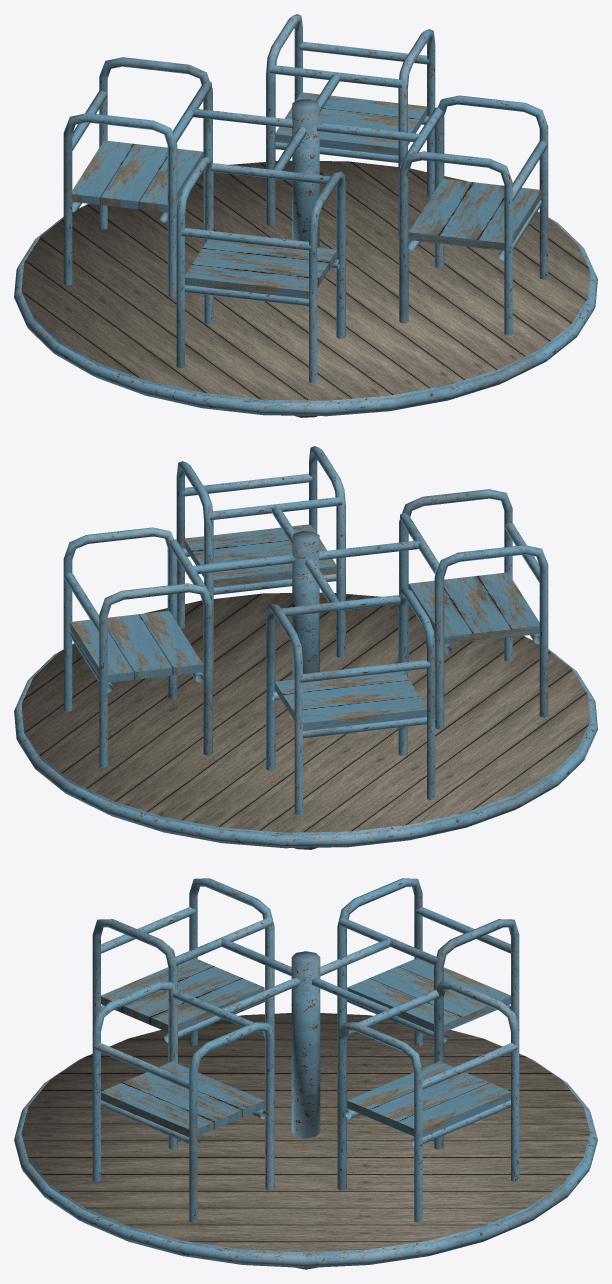
File: playground_carousel_lod1_web.glb
The picture shows the model from 3 angles, top to bottom: view 1: azimuth 30°, elevation 25°; view 2: azimuth 150°, elevation 25°; view 3: azimuth 270°, elevation 25°; orthographic projection.
Parts seen in each view (by area): view 1: Carousel_RotorMesh; view 2: Carousel_RotorMesh; view 3: Carousel_RotorMesh.
Part boxes in pixels (x1,y1,x2,y2): Carousel_RotorMesh: [14, 14, 597, 416]; Carousel_RotorMesh: [14, 446, 597, 848]; Carousel_RotorMesh: [14, 878, 597, 1267].
Bounding box in the file's own units: 2.05 × 1.18 × 2.05.
5 materials, 5 textured.
